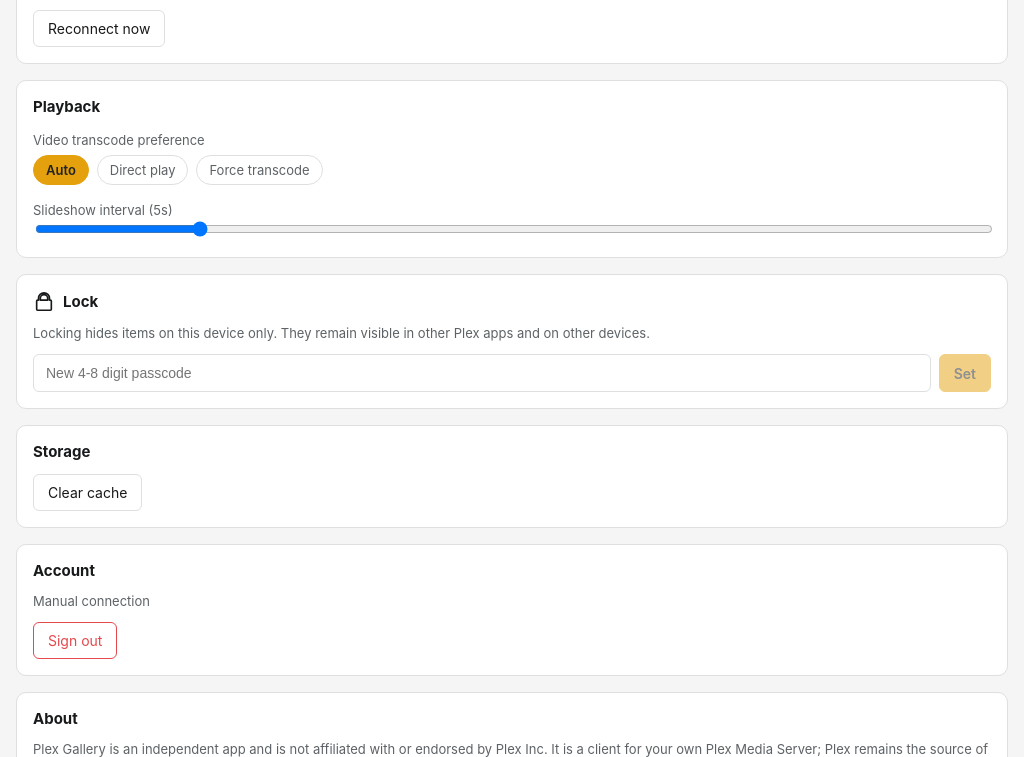
Test: Settings lock section › switches from the set form to the passcode controls once a passcode is set
The image size is (1024, 757).
(page scrolled)
Expected: the text "hides items on this device only" is shown, [33,325,650,341]
Step 1. Type "1234" into the password field named "New passcode" → [482, 373], box [33,354,931,392]
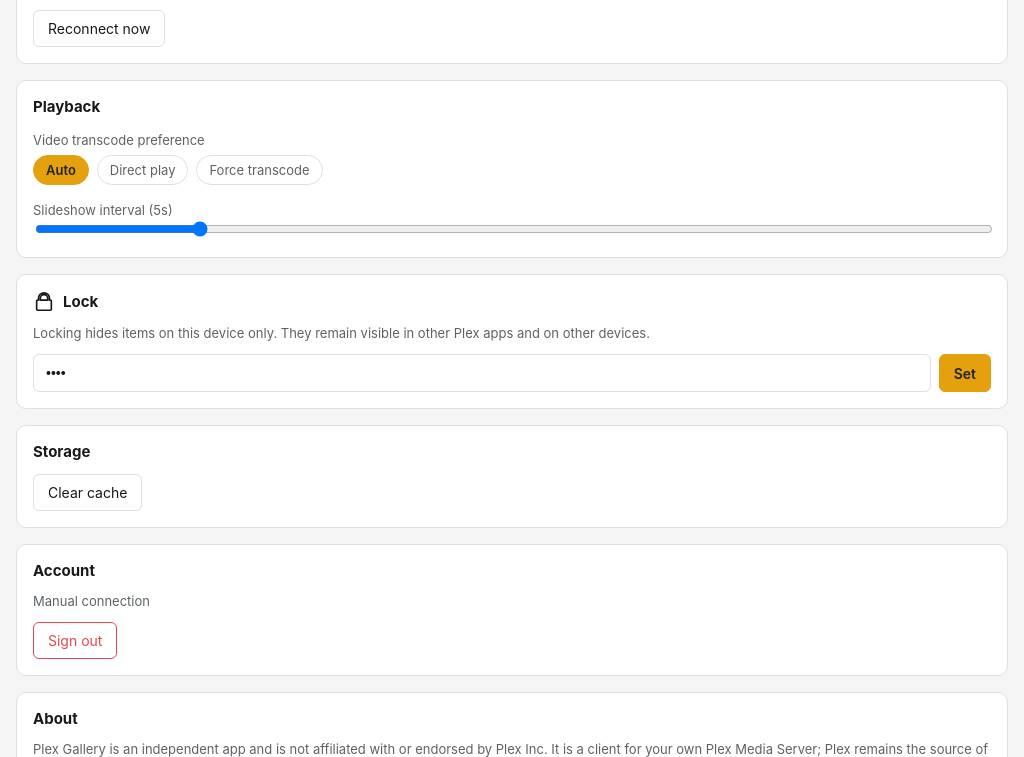
Step 2. Click the button "Set" → [965, 373], box [939,354,991,392]
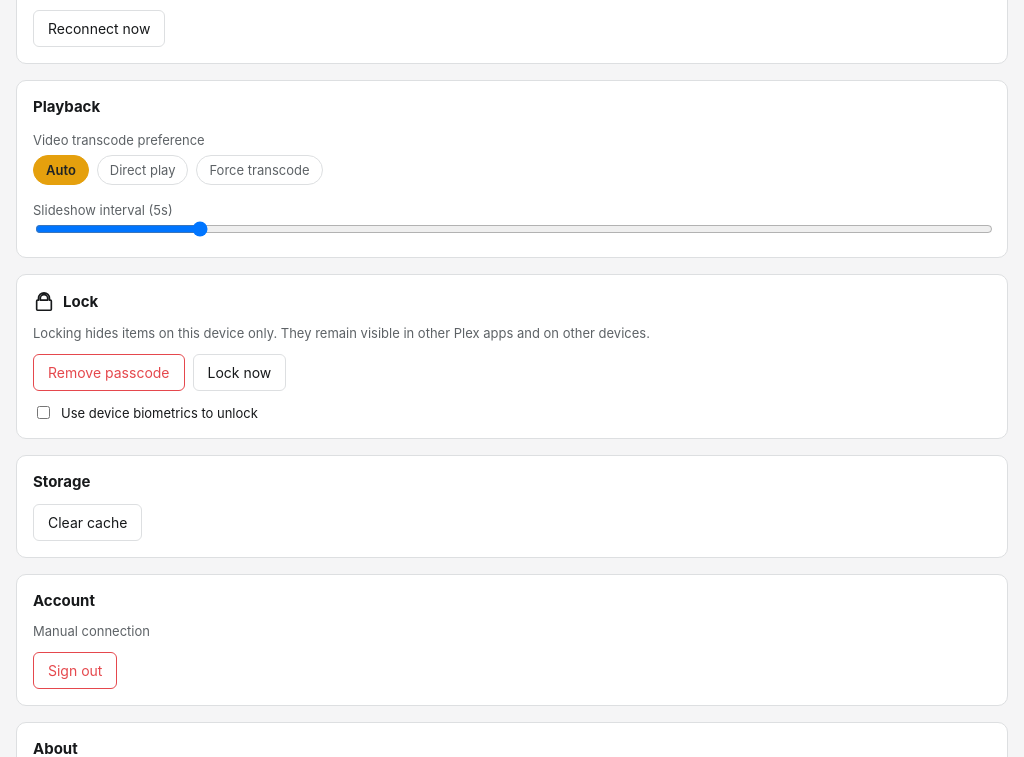
Expected: the button "Remove passcode" is shown, [33,354,184,391]
